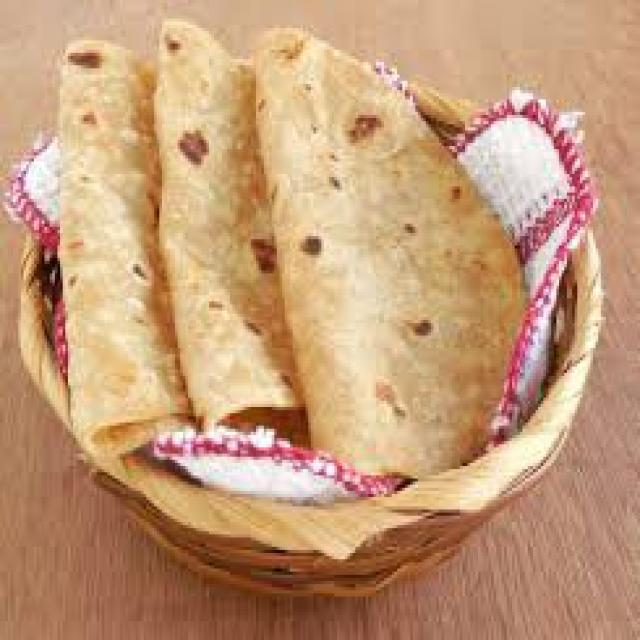CHAPATHI: (62, 24, 530, 488)
